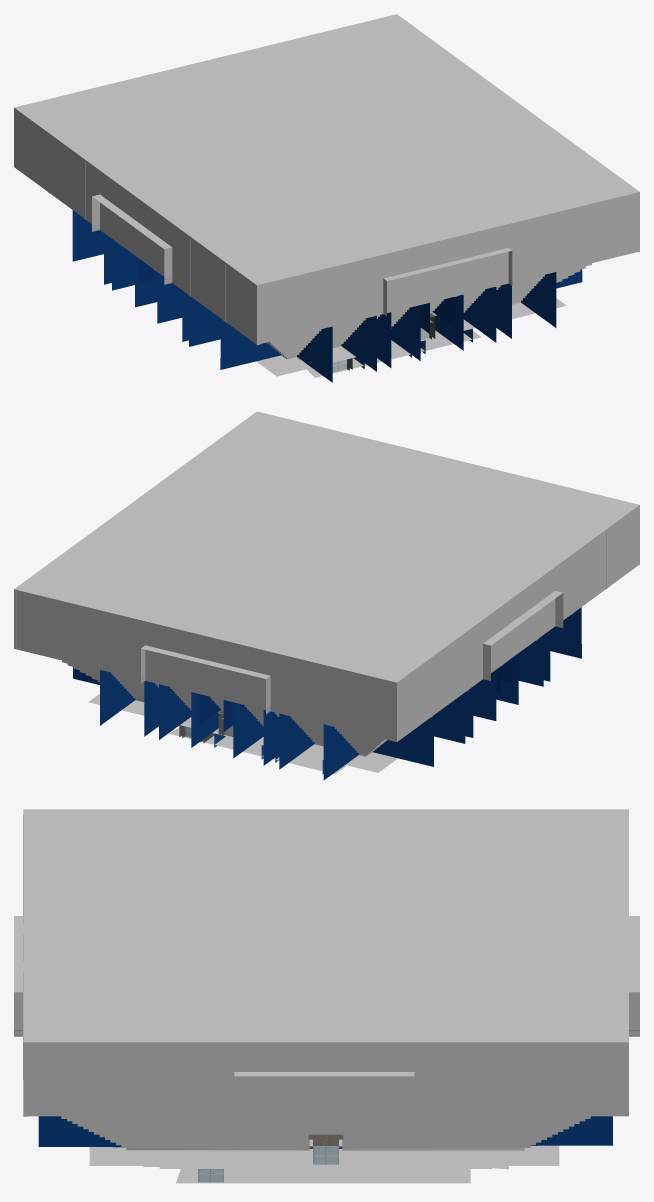
The model's file is Arena_Hockey.fbx.
The picture shows the model from 3 angles, top to bottom: view 1: azimuth 30°, elevation 25°; view 2: azimuth 150°, elevation 25°; view 3: azimuth 270°, elevation 25°; orthographic projection. The views are drawn at different scales.
Visible parts, largest first — view 1: Wall, Sidenia, Arena1, Karkas, Vishki; view 2: Wall, Sidenia, Arena1, Karkas, Vishki; view 3: Wall, Arena1, Karkas, Vishki, Sidenia.
Boxes of the visible parts, left/top/right/bottom form: Wall: left=14, top=14, right=639, bottom=344; Sidenia: left=72, top=210, right=582, bottom=382; Arena1: left=256, top=263, right=591, bottom=377; Karkas: left=14, top=108, right=639, bottom=345; Vishki: left=92, top=194, right=512, bottom=316; Wall: left=14, top=411, right=639, bottom=741; Sidenia: left=73, top=607, right=581, bottom=780; Arena1: left=62, top=660, right=397, bottom=774; Karkas: left=14, top=505, right=639, bottom=741; Vishki: left=141, top=591, right=563, bottom=714; Wall: left=23, top=809, right=628, bottom=1116; Arena1: left=61, top=1116, right=590, bottom=1183; Karkas: left=23, top=815, right=544, bottom=1116; Vishki: left=14, top=916, right=639, bottom=1076; Sidenia: left=38, top=1116, right=612, bottom=1147.
Size of the model in its own units: 105 by 40.39 by 115.
